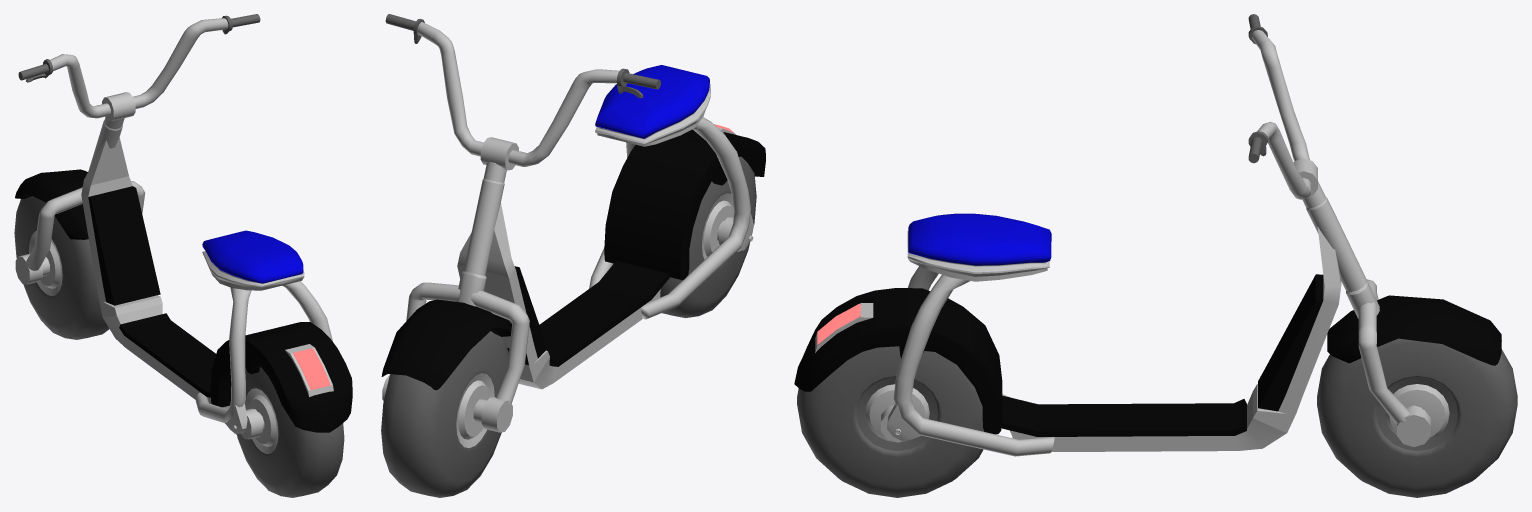
File: Scooter.fbx
3 renders of one model, left to right at view 1: azimuth 30°, elevation 25°; view 2: azimuth 150°, elevation 25°; view 3: azimuth 270°, elevation 25°, orthographic. The views are drawn at different scales.
Visible parts, largest first — view 1: Base, Back_Fender, backTire, backTire1, Seat, Handlebars, Seat_Supports, FrontFender, Axles, Backlight, axel, STEERINGPOLE (+2 smaller); view 2: backTire1, Back_Fender, Base, Handlebars, FrontFender, Seat, backTire, Seat_Supports, Axles, STEERINGPOLE, axel; view 3: backTire1, Base, backTire, Back_Fender, Seat, FrontFender, Seat_Supports, Handlebars, STEERINGPOLE, Axles, Backlight, axel.
Boxes of the visible parts, x1=… form: Base: x1=81, y1=137, x2=229, y2=409; Back_Fender: x1=210, y1=322, x2=352, y2=432; backTire: x1=237, y1=367, x2=344, y2=497; backTire1: x1=14, y1=196, x2=109, y2=339; Seat: x1=202, y1=230, x2=304, y2=290; Handlebars: x1=18, y1=14, x2=260, y2=121; Seat_Supports: x1=195, y1=281, x2=332, y2=423; FrontFender: x1=15, y1=169, x2=88, y2=239; Axles: x1=26, y1=181, x2=145, y2=270; Backlight: x1=285, y1=344, x2=333, y2=397; axel: x1=15, y1=253, x2=49, y2=284; STEERINGPOLE: x1=82, y1=118, x2=124, y2=187; backTire1: x1=381, y1=331, x2=508, y2=497; Back_Fender: x1=604, y1=129, x2=765, y2=280; Base: x1=457, y1=202, x2=669, y2=389; Handlebars: x1=385, y1=14, x2=660, y2=170; FrontFender: x1=381, y1=299, x2=511, y2=390; Seat: x1=595, y1=65, x2=710, y2=146; backTire: x1=660, y1=156, x2=756, y2=318; Seat_Supports: x1=589, y1=117, x2=750, y2=319; Axles: x1=406, y1=282, x2=529, y2=404; STEERINGPOLE: x1=455, y1=162, x2=506, y2=306; axel: x1=382, y1=374, x2=512, y2=432; backTire1: x1=1317, y1=338, x2=1517, y2=497; Base: x1=1001, y1=226, x2=1341, y2=451; backTire: x1=797, y1=346, x2=984, y2=497; Back_Fender: x1=794, y1=288, x2=1002, y2=434; Seat: x1=907, y1=213, x2=1051, y2=281; FrontFender: x1=1327, y1=295, x2=1501, y2=365; Seat_Supports: x1=893, y1=266, x2=1054, y2=456; Handlebars: x1=1248, y1=14, x2=1317, y2=199; STEERINGPOLE: x1=1302, y1=181, x2=1379, y2=318; Axles: x1=1358, y1=279, x2=1409, y2=423; Backlight: x1=815, y1=303, x2=873, y2=352; axel: x1=1397, y1=405, x2=1430, y2=446.
Size of the model in its own units: 6.83 by 9.42 by 14.96.
